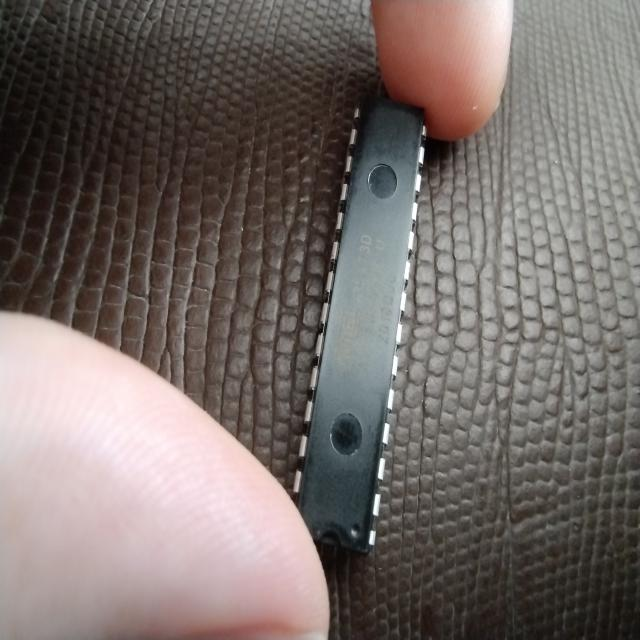atmega: (293, 91, 430, 558)
